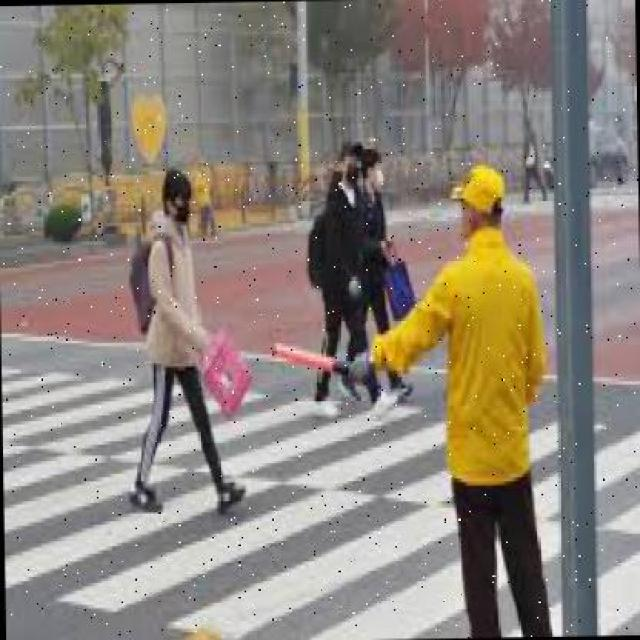obstacle: (344, 167, 551, 636), (128, 170, 244, 513), (312, 135, 394, 416), (335, 145, 413, 403)
